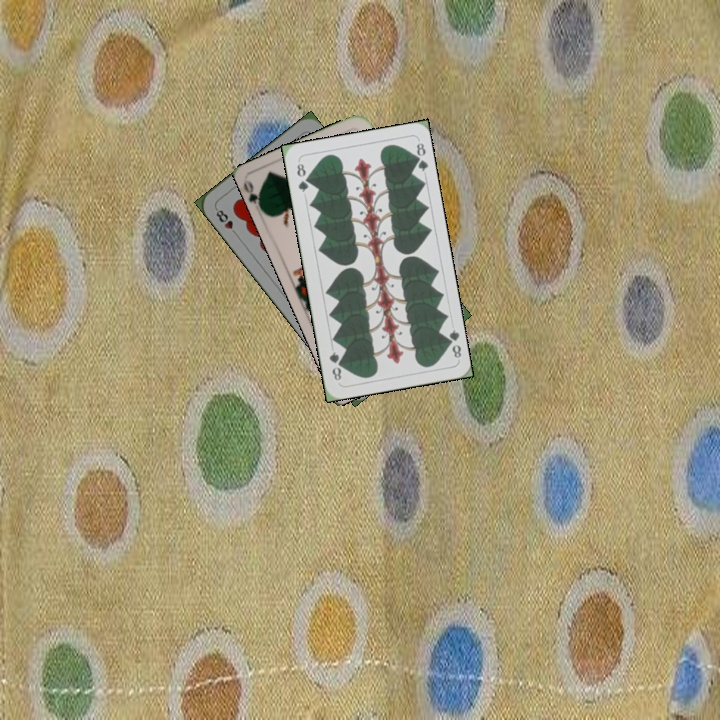G8: (441, 325, 464, 360), (293, 159, 311, 195)
GO: (241, 177, 267, 215)
H8: (211, 204, 241, 239)
